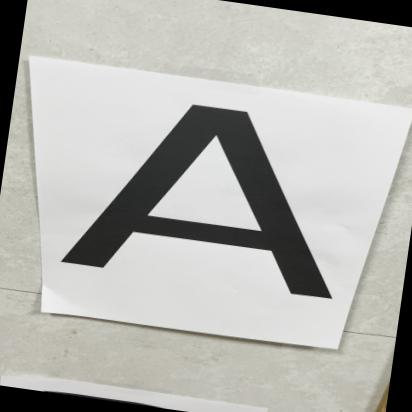seat: (52, 99, 364, 304)
